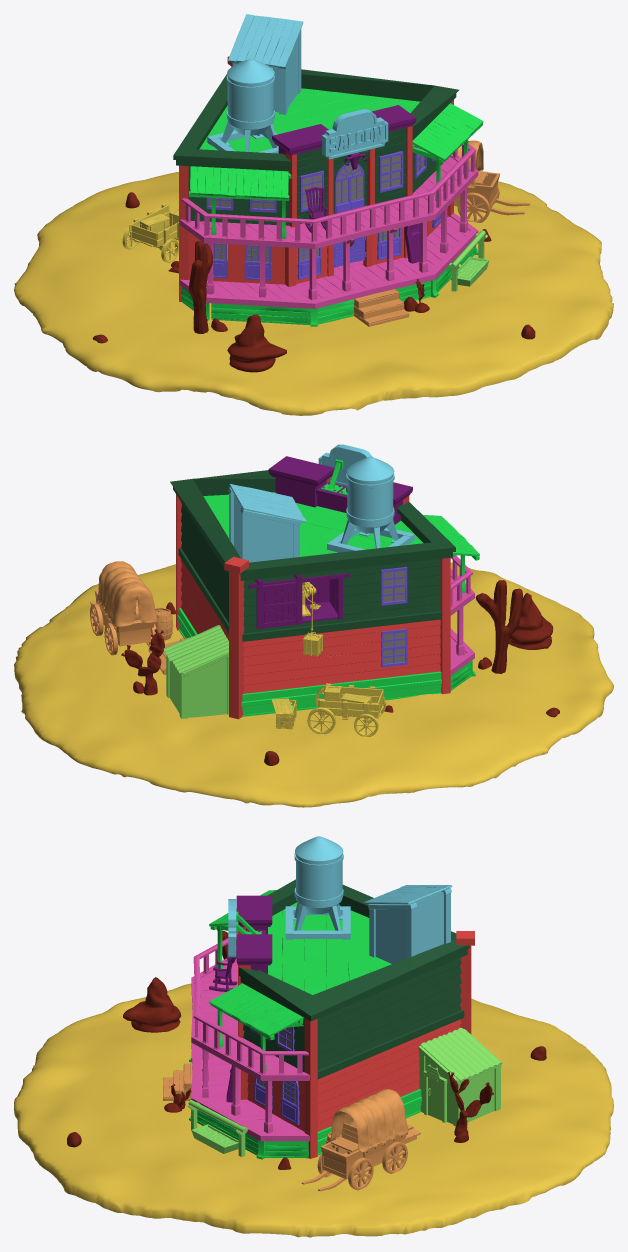
File: ExampleBadMesh_WildWestSaloon Environment.fbx
3 views of the same model, one above another, from view 1: azimuth 30°, elevation 25°; view 2: azimuth 150°, elevation 25°; view 3: azimuth 270°, elevation 25° (orthographic).
Visible parts, largest first — view 1: Terrain, Balcony, Roof Tops - Supports, Building Top Wood, Water Tower - Roof Door - Sign, Bottom Wood, Window Frames - Doors, Wagon - Trapdoor - Barrels - Steps, Chair - Coffin - Small Wood Parts, Desert Rock_lowpoly, Window Glass, Wagon - Crates - Crane (+2 smaller); view 2: Terrain, Building Top Wood, Bottom Wood, Water Tower - Roof Door - Sign, Roof Tops - Supports, Chair - Coffin - Small Wood Parts, Wagon - Trapdoor - Barrels - Steps, Toilet - Trouth, Wagon - Crates - Crane, Desert Rock_lowpoly, cactus 1_lowpoly, Balcony (+3 smaller); view 3: Terrain, Building Top Wood, Roof Tops - Supports, Water Tower - Roof Door - Sign, Balcony, Bottom Wood, Wagon - Trapdoor - Barrels - Steps, Toilet - Trouth, Chair - Coffin - Small Wood Parts, Desert Rock_lowpoly, Window Frames - Doors, cactus 2_lowpoly.
Boxes of the visible parts, x1,y1,x2,y2 form: Terrain: [14, 172, 613, 415]; Balcony: [179, 143, 478, 308]; Roof Tops - Supports: [181, 88, 483, 326]; Building Top Wood: [173, 67, 458, 225]; Water Tower - Roof Door - Sign: [207, 14, 388, 159]; Bottom Wood: [179, 56, 453, 301]; Window Frames - Doors: [202, 146, 440, 280]; Wagon - Trapdoor - Barrels - Steps: [354, 140, 529, 326]; Chair - Coffin - Small Wood Parts: [272, 105, 420, 263]; Desert Rock_lowpoly: [92, 192, 535, 372]; Window Glass: [204, 147, 424, 261]; Wagon - Crates - Crane: [122, 203, 178, 262]; Terrain: [14, 562, 613, 807]; Building Top Wood: [170, 470, 455, 641]; Bottom Wood: [176, 478, 450, 719]; Water Tower - Roof Door - Sign: [228, 444, 414, 562]; Roof Tops - Supports: [177, 459, 479, 716]; Chair - Coffin - Small Wood Parts: [248, 456, 412, 629]; Wagon - Trapdoor - Barrels - Steps: [90, 561, 189, 674]; Toilet - Trouth: [163, 625, 228, 718]; Wagon - Crates - Crane: [271, 582, 386, 736]; Desert Rock_lowpoly: [133, 593, 559, 765]; cactus 1_lowpoly: [476, 580, 522, 673]; Balcony: [450, 555, 474, 675]; Terrain: [14, 983, 613, 1237]; Building Top Wood: [239, 879, 469, 1079]; Roof Tops - Supports: [189, 890, 421, 1159]; Water Tower - Roof Door - Sign: [228, 836, 452, 963]; Balcony: [191, 933, 309, 1141]; Bottom Wood: [238, 927, 474, 1158]; Wagon - Trapdoor - Barrels - Steps: [163, 1063, 420, 1191]; Toilet - Trouth: [187, 1027, 502, 1156]; Chair - Coffin - Small Wood Parts: [209, 895, 272, 1102]; Desert Rock_lowpoly: [67, 977, 546, 1169]; Window Frames - Doors: [238, 934, 299, 1124]; cactus 2_lowpoly: [447, 1072, 493, 1135].
Size of the model in its own units: 2548 by 1153 by 2553.
